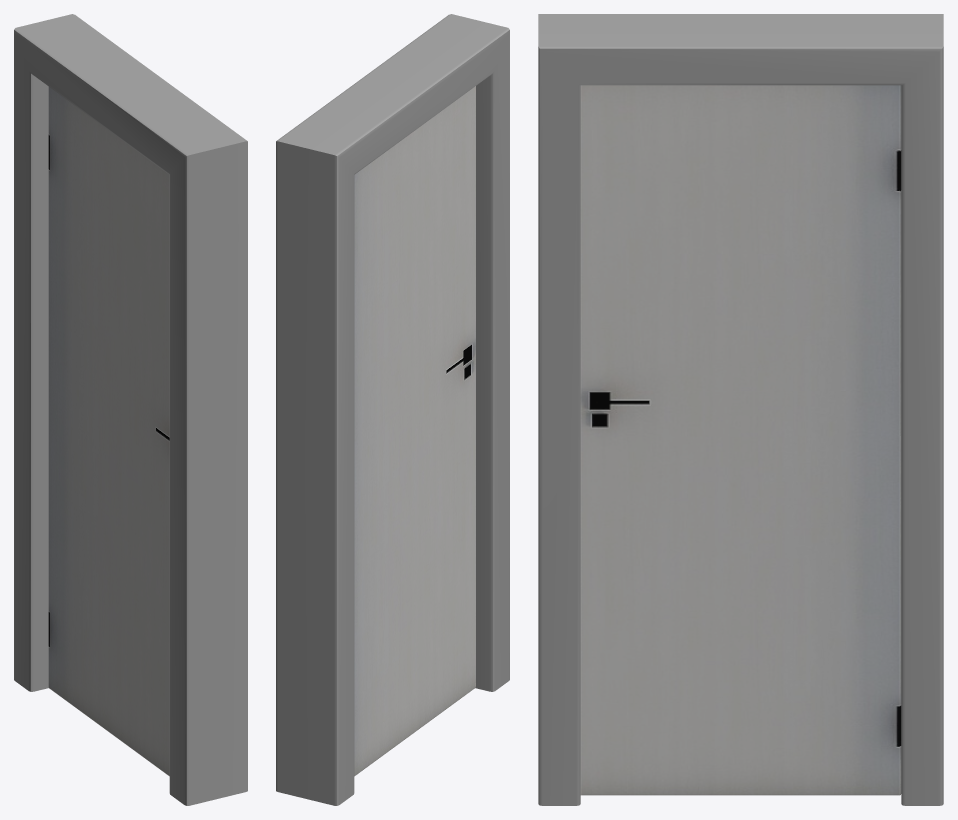
File: Door_Single.fbx
3 views of the same model, side by side, from view 1: azimuth 30°, elevation 25°; view 2: azimuth 150°, elevation 25°; view 3: azimuth 270°, elevation 25° (orthographic). The views are drawn at different scales.
Parts seen in each view (by area): view 1: polySurface31, Door_1; view 2: polySurface31, Door_1; view 3: Door_1, polySurface31.
Part boxes in pixels (x1,y1,x2,y2): polySurface31: [14, 14, 247, 805]; Door_1: [48, 86, 169, 776]; polySurface31: [276, 14, 509, 805]; Door_1: [354, 86, 475, 776]; Door_1: [580, 85, 901, 795]; polySurface31: [538, 14, 943, 805].
Bounding box in the file's own units: 21.1 × 208 × 101.
Materials: 2 (1 with a texture image).
